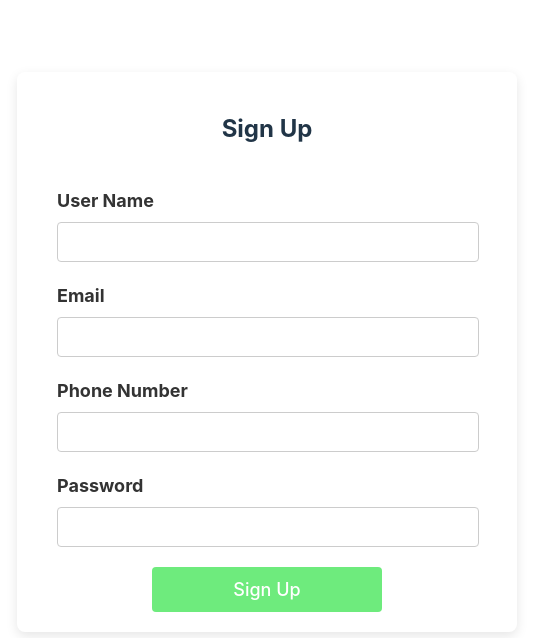
Test: shows validation errors on submit with empty fields
Click the button "Sign Up".
click(267, 590)  # box [152,568,382,612]
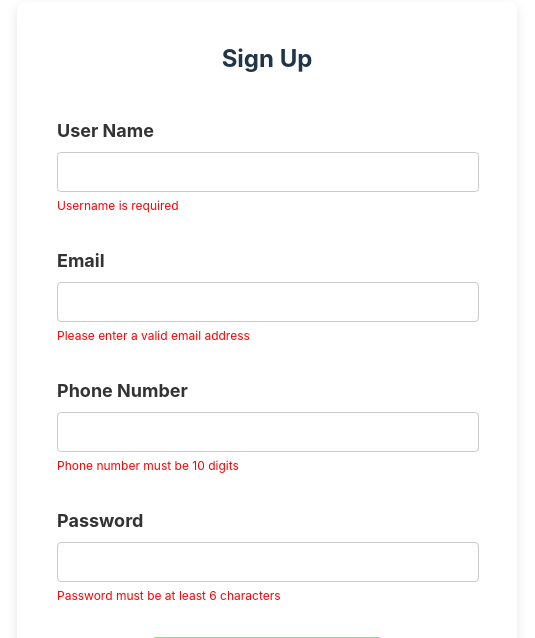
Now the text "Username is required" is shown, box [57,198,179,214]
Now the text "Please enter a valid email address" is shown, box [57,328,250,344]
Now the text "Phone number must be 10 digits" is shown, box [57,458,239,474]
